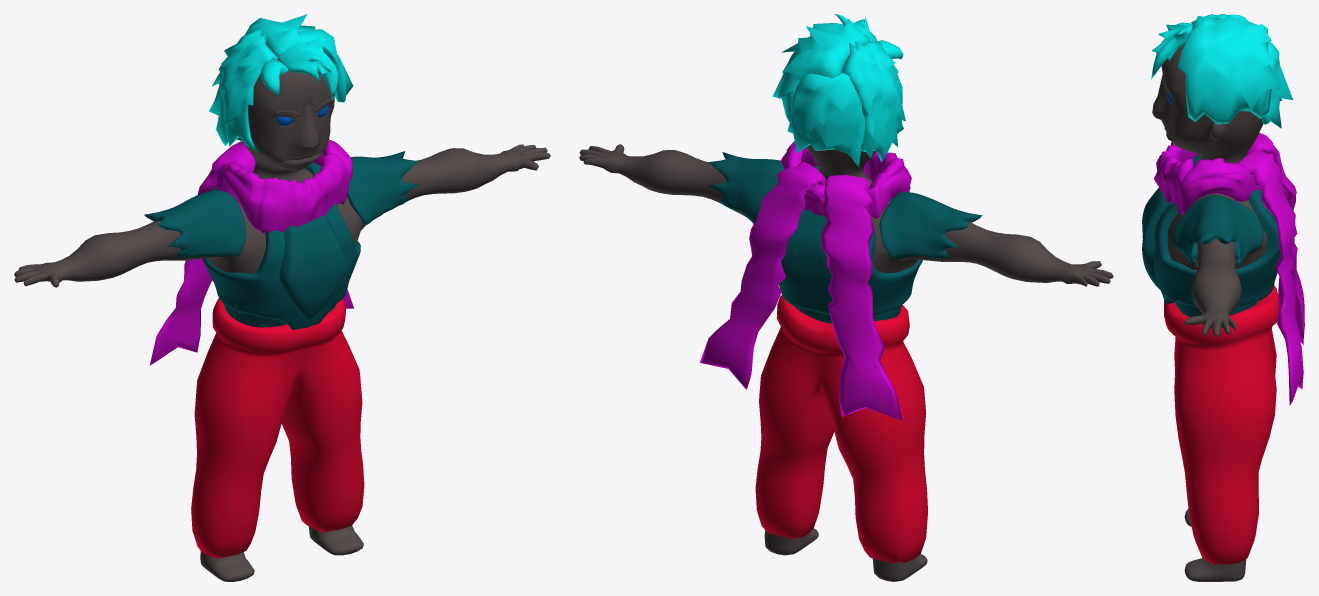
The model's file is character fbx.fbx.
3 renders of one model, left to right at view 1: azimuth 30°, elevation 25°; view 2: azimuth 150°, elevation 25°; view 3: azimuth 270°, elevation 25°, orthographic.
Parts seen in each view (by area): view 1: pants1, body1, polySurface15, veil1, hair1; view 2: pants1, veil1, body1, hair1, polySurface15; view 3: pants1, body1, hair1, polySurface15, veil1.
Boxes of the visible parts, x1,y1,x2,y2 form: pants1: (191, 298, 364, 558); body1: (14, 57, 550, 581); polySurface15: (144, 151, 419, 329); veil1: (149, 139, 353, 365); hair1: (209, 14, 353, 151); pants1: (755, 295, 927, 563); veil1: (700, 141, 911, 420); body1: (579, 67, 1113, 581); hair1: (772, 14, 905, 166); polySurface15: (708, 152, 982, 323); pants1: (1164, 285, 1279, 564); body1: (1152, 44, 1267, 581); hair1: (1151, 14, 1292, 128); polySurface15: (1142, 154, 1280, 317); veil1: (1154, 132, 1304, 405).
Bounding box in the file's own units: 10.83 × 10.39 × 2.85.
